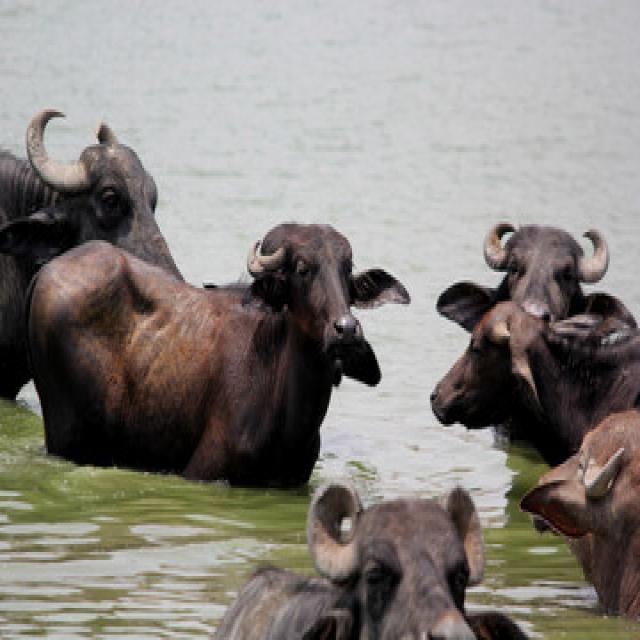Buffalo: (305, 478, 491, 637), (228, 222, 409, 385), (19, 112, 174, 270), (430, 297, 548, 432), (475, 221, 613, 319), (518, 420, 630, 538)
